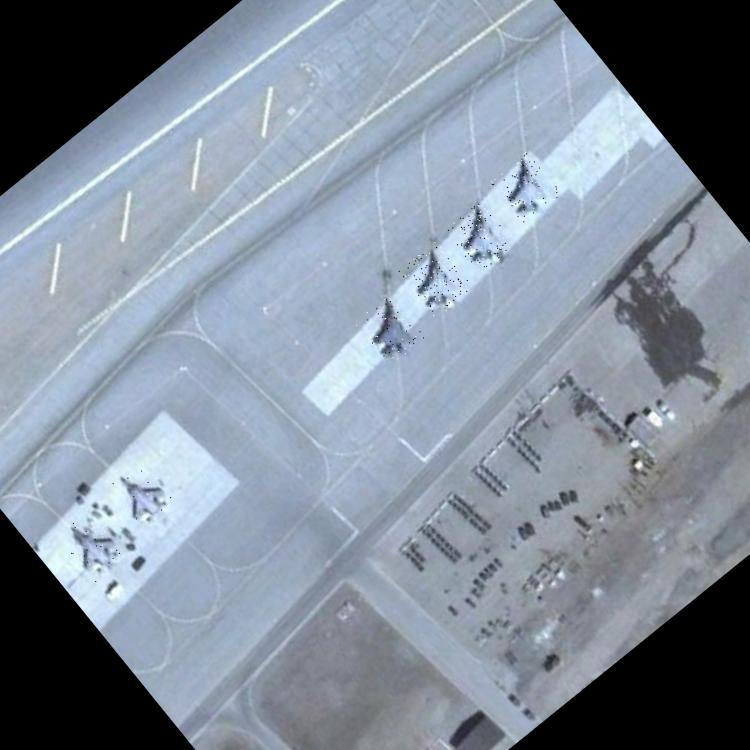A13: (397, 240, 475, 320), (352, 292, 426, 367), (444, 200, 518, 274), (490, 150, 562, 224)
A15: (57, 508, 130, 582), (110, 460, 176, 528)
